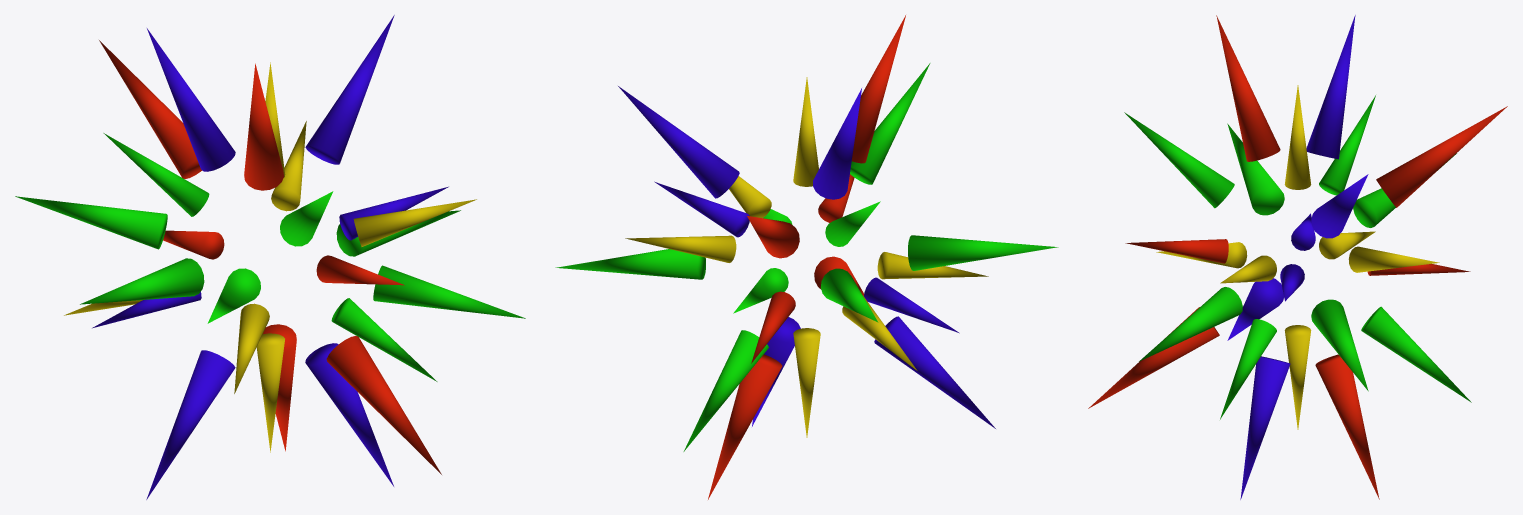
The model's file is Spikes.fbx.
3 views of the same model, side by side, from view 1: azimuth 30°, elevation 25°; view 2: azimuth 150°, elevation 25°; view 3: azimuth 270°, elevation 25° (orthographic). The views are drawn at different scales.
Visible parts, largest first — view 1: Spikes; view 2: Spikes; view 3: Spikes.
Part boxes in pixels (x1,y1,x2,y2): Spikes: (15, 15, 525, 499); Spikes: (555, 15, 1058, 499); Spikes: (1088, 15, 1507, 499).
Bounding box in the file's own units: 7.7 × 7.74 × 6.84.
